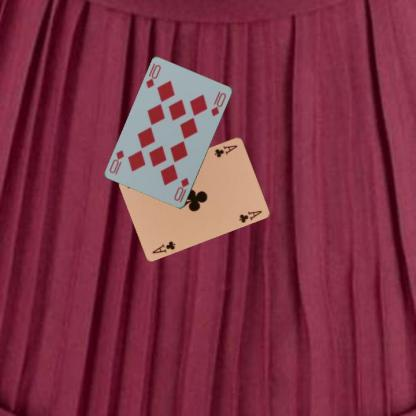10d: (172, 175, 190, 205), (144, 61, 162, 90)
Ac: (150, 238, 176, 255), (212, 142, 239, 158)
